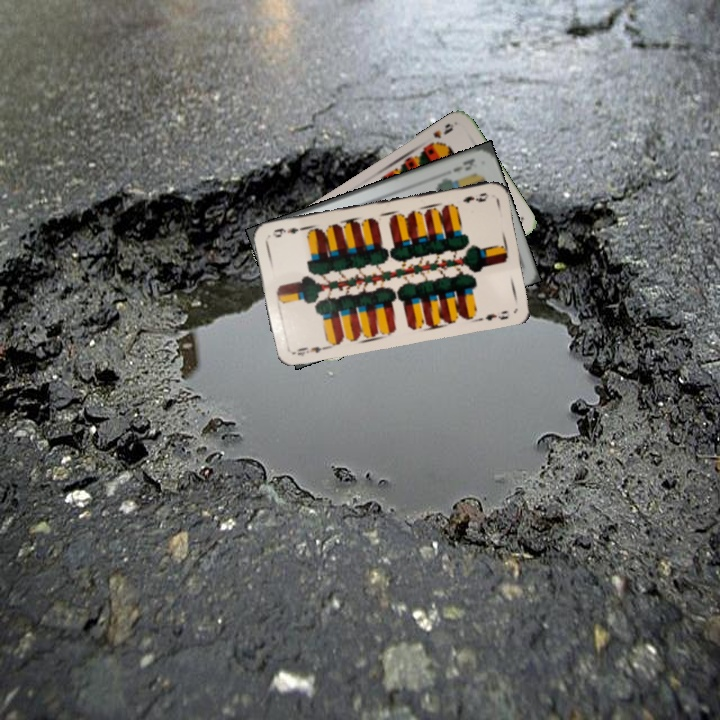E9: (288, 342, 329, 359), (459, 188, 491, 205)
EK: (449, 154, 477, 175)
S9: (423, 119, 456, 150)
